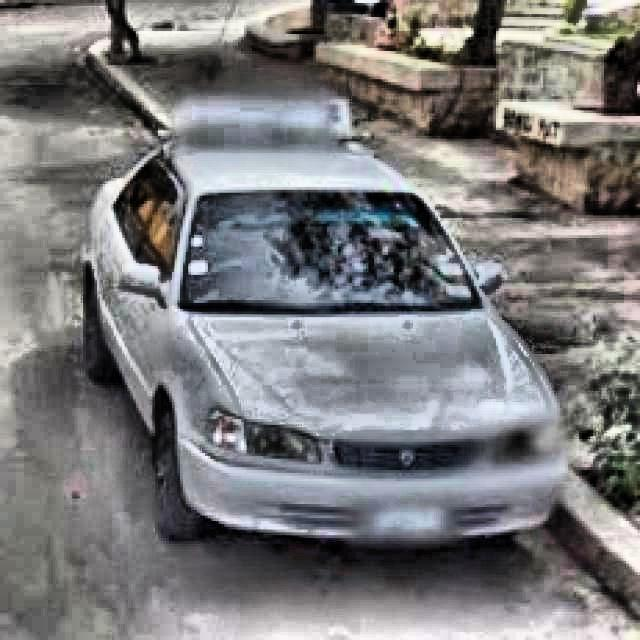carro: (78, 118, 560, 588)
